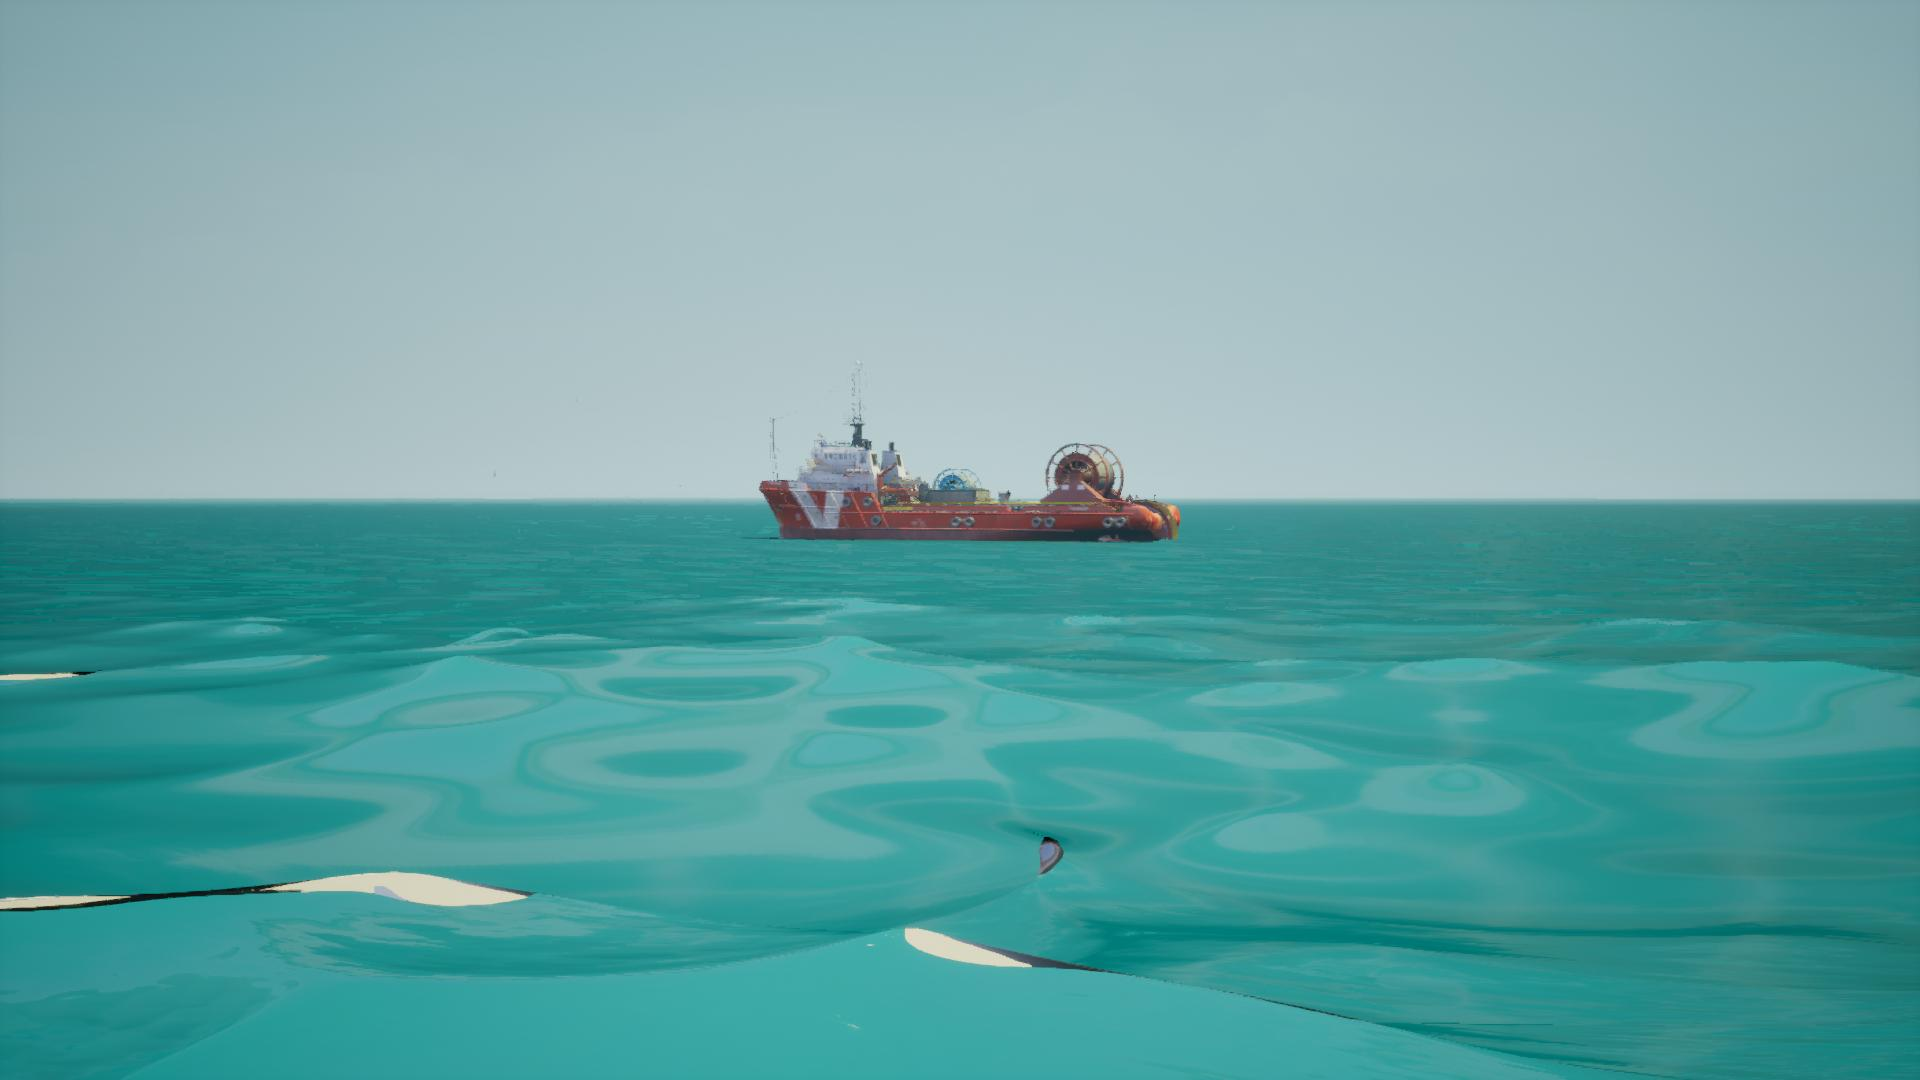Tug Boat: (753, 361, 1178, 545)
